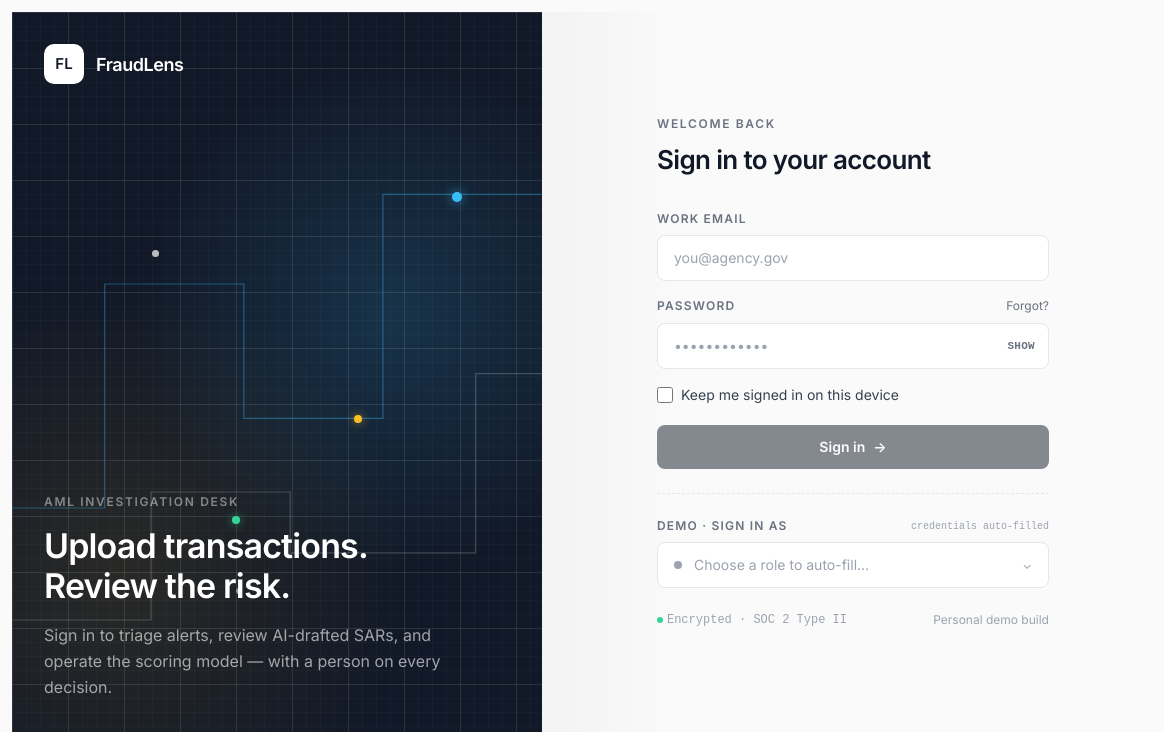
Test case: Login › offers the same personas in a production portfolio build
Click the button named "Demo · sign in as" at (853, 565), box 657,542 -> 1049,588
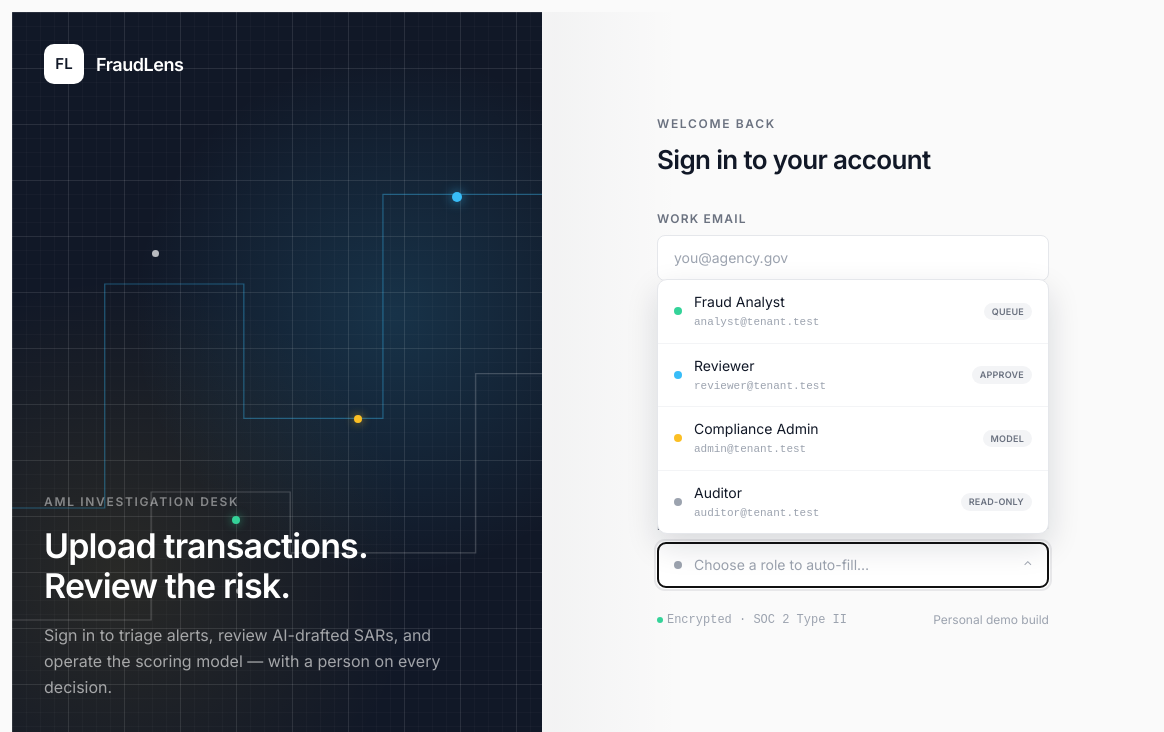
Check: the number of options is 4, box 658,280 -> 1048,344; 658,344 -> 1048,407; 658,407 -> 1048,470; 658,470 -> 1048,533
